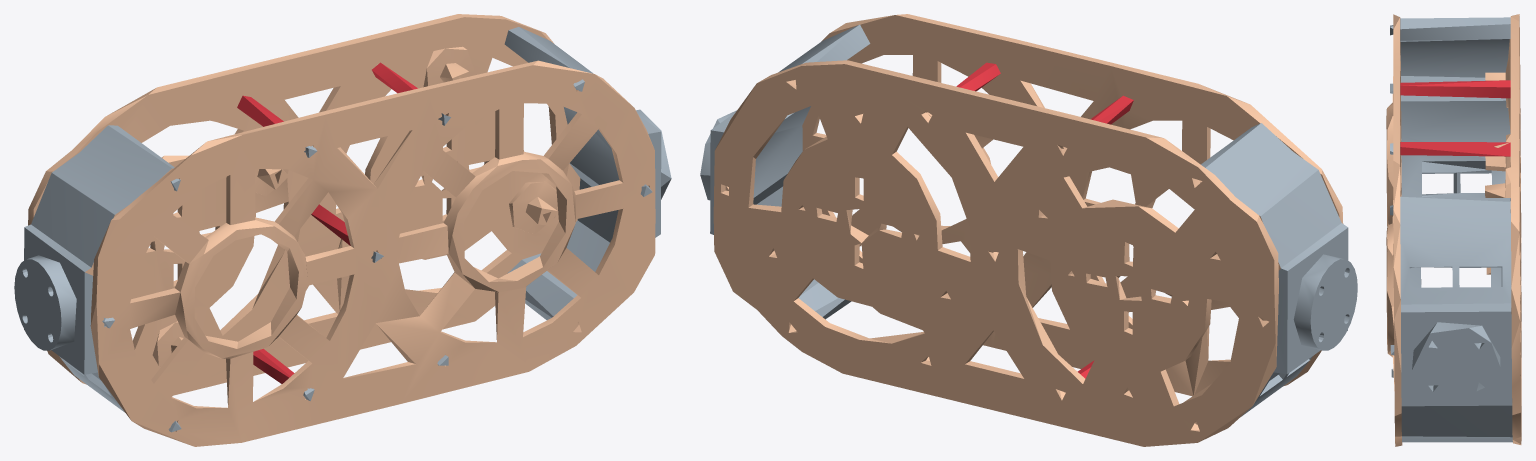
3 renders of one model, left to right at view 1: azimuth 30°, elevation 25°; view 2: azimuth 150°, elevation 25°; view 3: azimuth 270°, elevation 25°, orthographic. The views are drawn at different scales.
Parts seen in each view (by area): view 1: tmp_export_br_link0; view 2: tmp_export_br_link0; view 3: tmp_export_br_link0.
Boxes of the visible parts, box(x1,y1,x2,y2) form: tmp_export_br_link0: box(14, 14, 671, 446); tmp_export_br_link0: box(700, 14, 1357, 446); tmp_export_br_link0: box(1386, 14, 1521, 446).
Bounding box in the file's own units: 0.1858 × 0.0391 × 0.0903.
